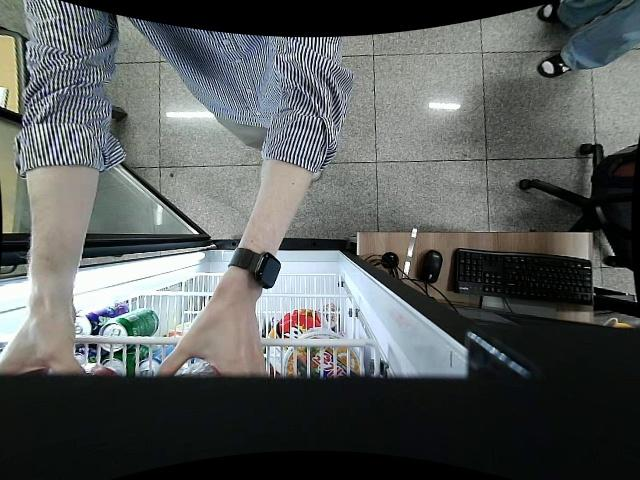00_hand: (153, 314, 268, 379), (0, 311, 89, 379)
